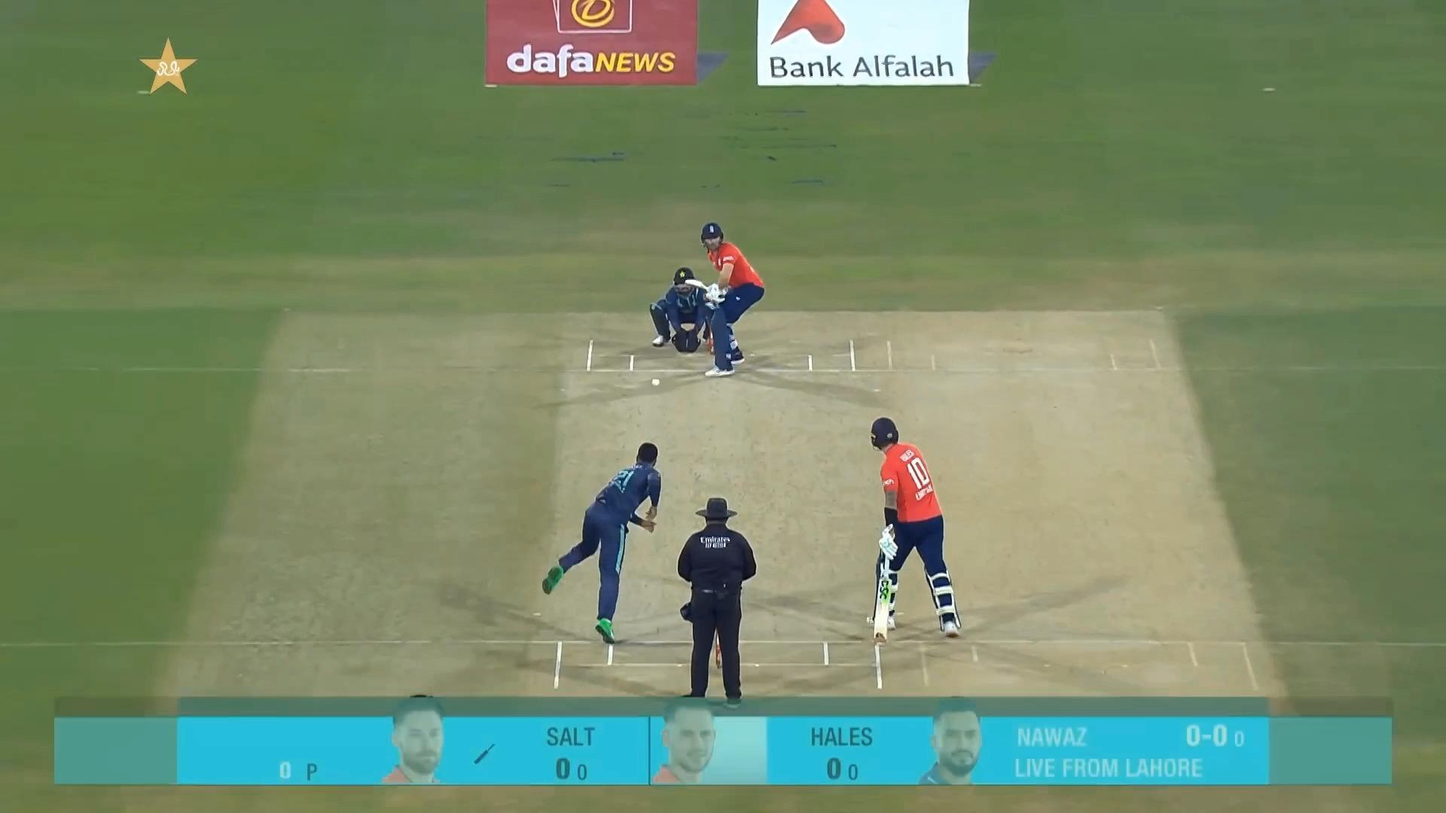BM 1: (685, 222, 765, 378)
BO: (539, 441, 664, 645)
